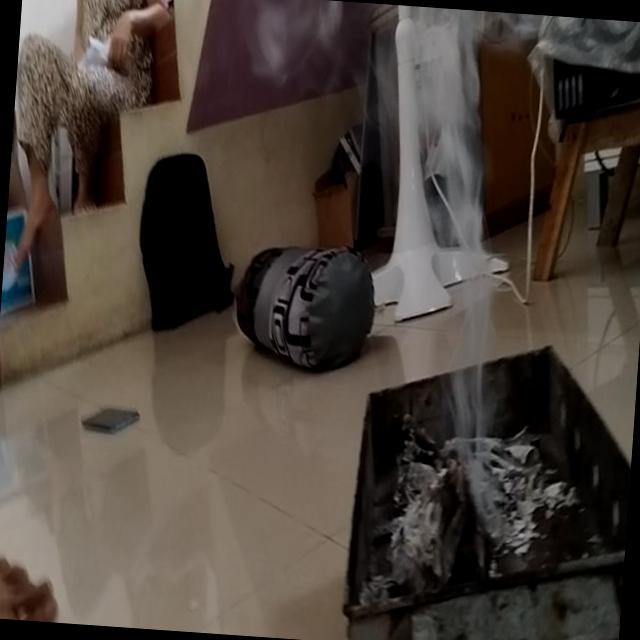smoke: (354, 261, 547, 548), (285, 0, 485, 273)
